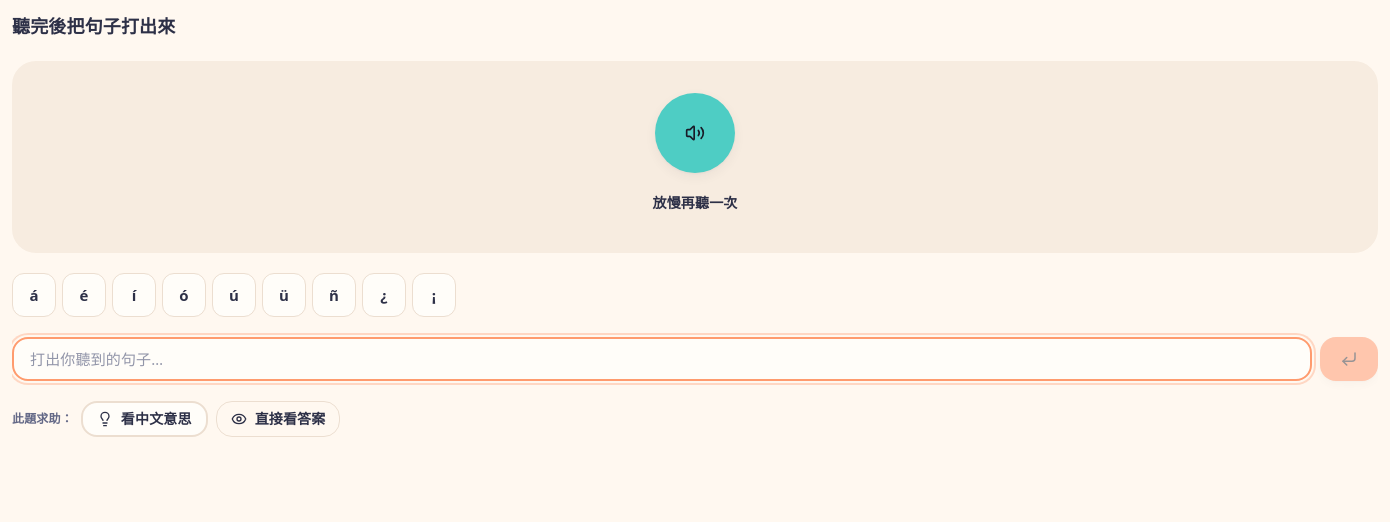
聽力題的求助階梯 › 按了「看中文意思」翻譯才出現，而且還是要自己拼
Click the button "看中文意思". click: coordinates (144, 419)
box: x1=81 y1=401 x2=208 y2=437
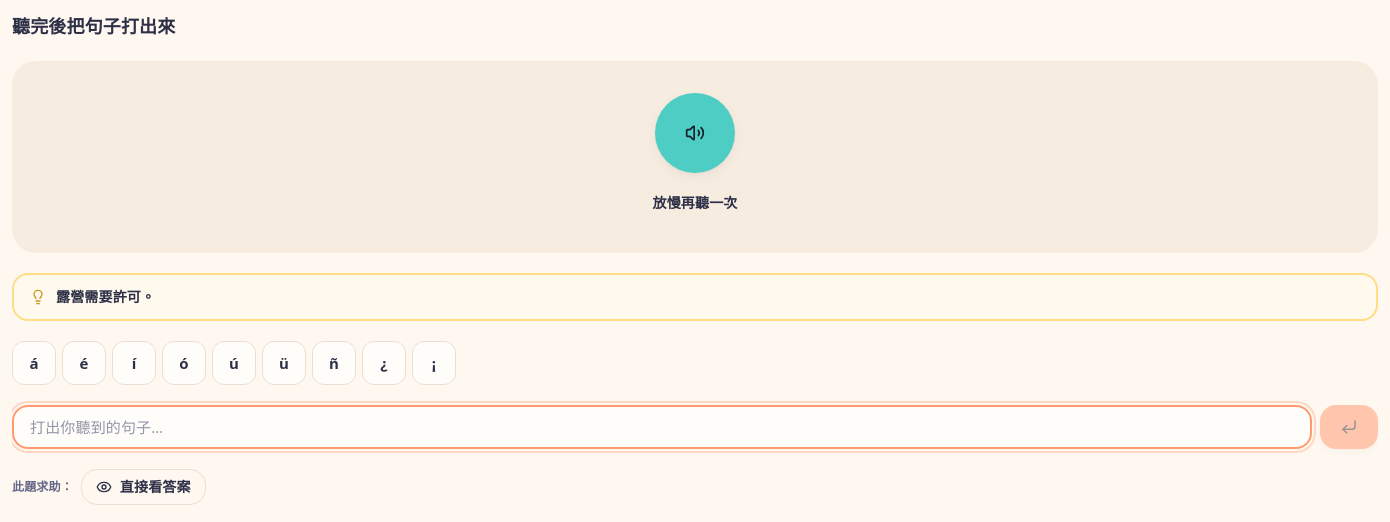
Check: the field is enabled, box x1=12 y1=405 x2=1312 y2=449
Check: the text "露營需要許可。" is shown, box x1=56 y1=287 x2=155 y2=307
Check: the button "看中文意思" is gone
